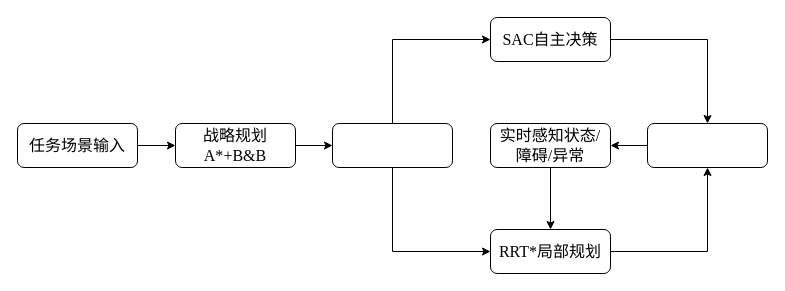
Image size: 785x291. Some labels were removed from this diagram. Each missing label, with the centre of its shape:
"CBBA多星分配" goes at point 392,145.
"MPC执行控制" goes at point 707,145.
